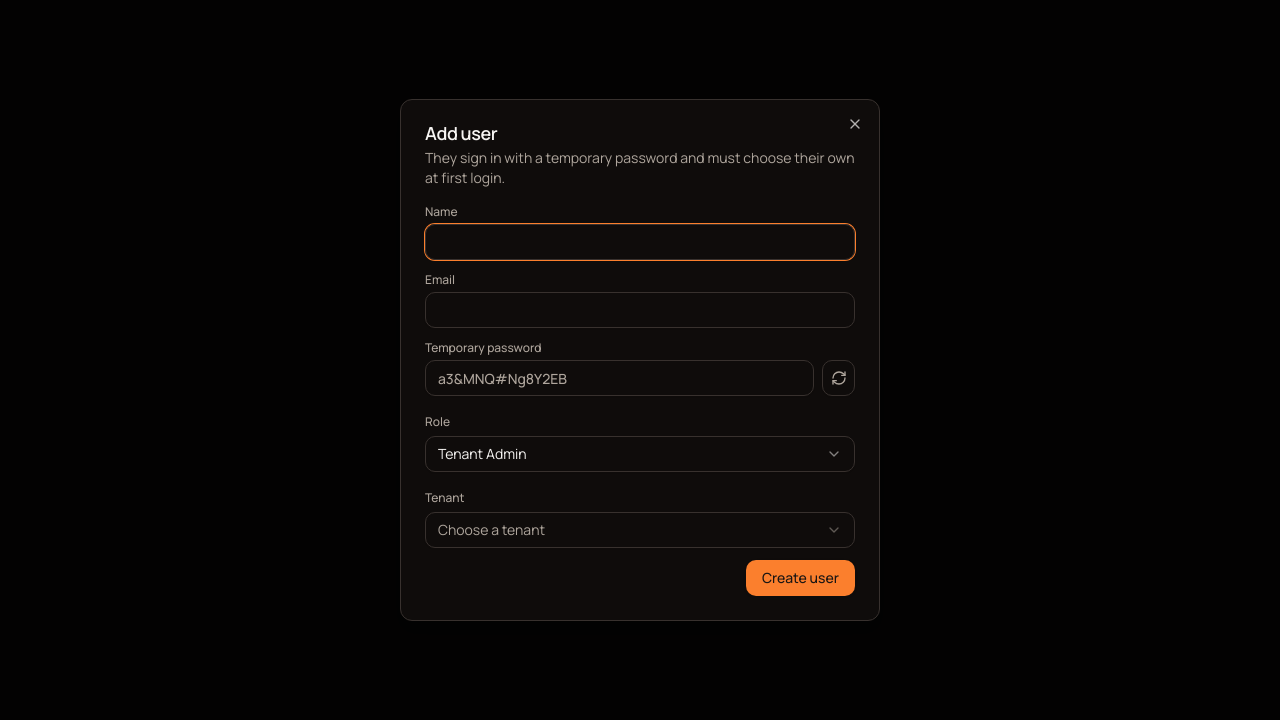
Test: Add User dialog › super admin: only Tenant Admin, and a tenant picker is required
Click the dropdown with test id "role-select" at (482, 454), box [425,436,855,472]
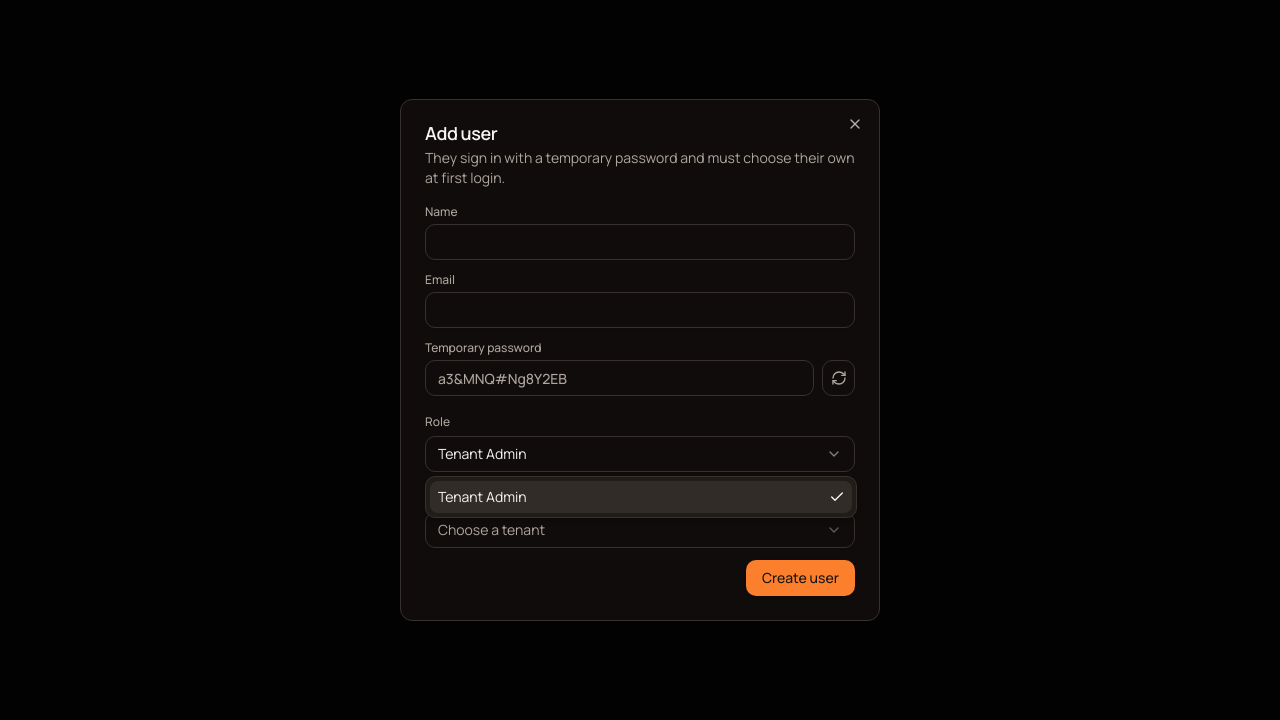
Press Escape
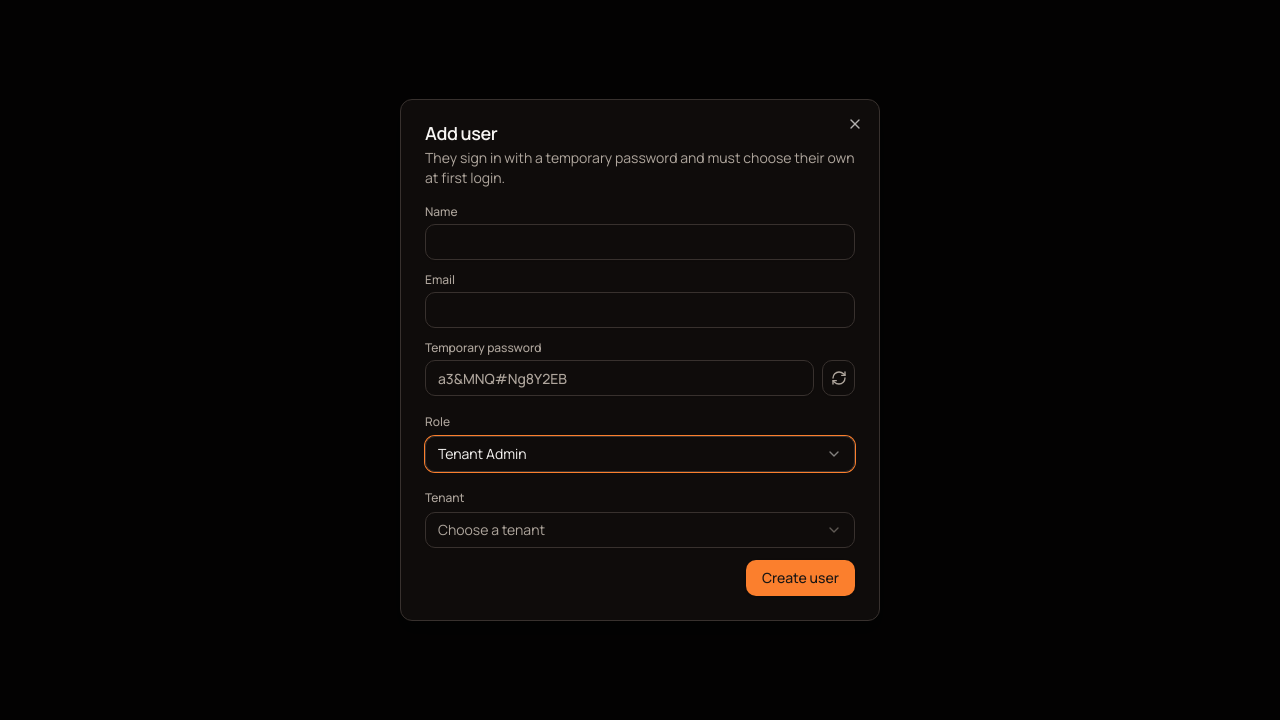
Expected: the dropdown with test id "tenant-select" is shown, [425,512,855,548]
Type "New Person" into the field labelled "Name" at (640, 242), box [425,224,855,260]
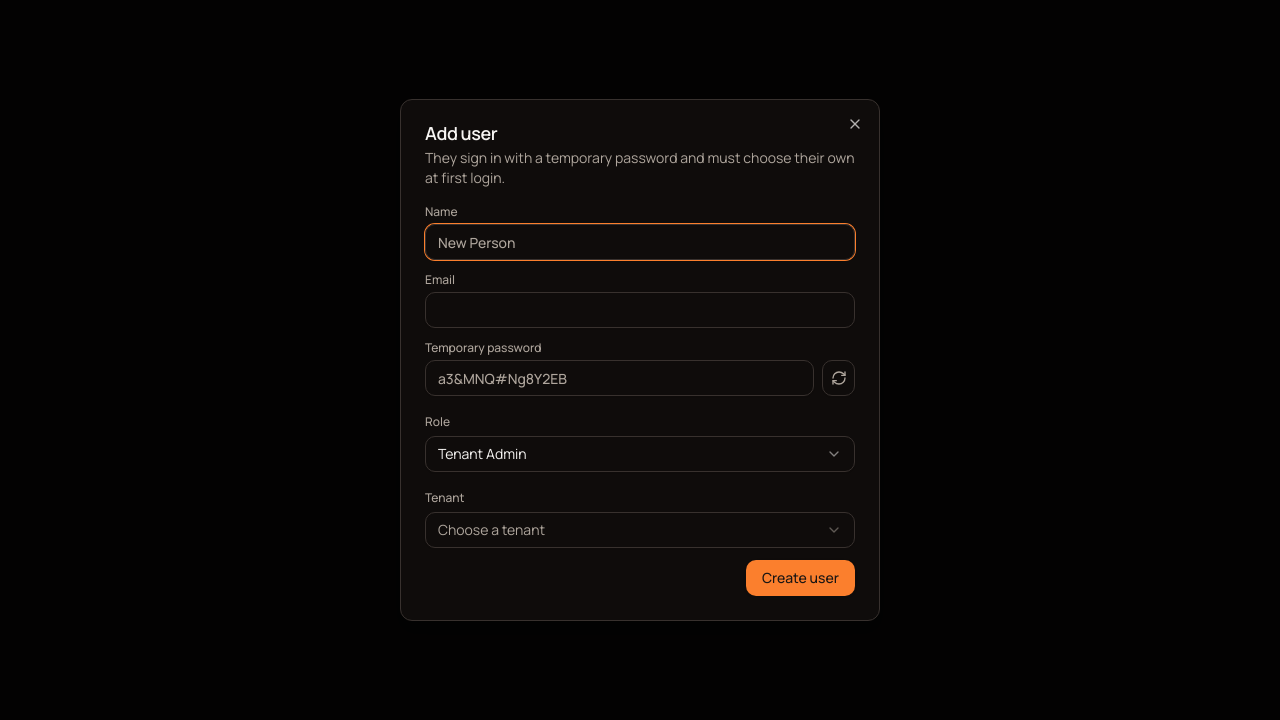
Type "new@x.co" into the field labelled "Email" at (640, 310), box [425,292,855,328]
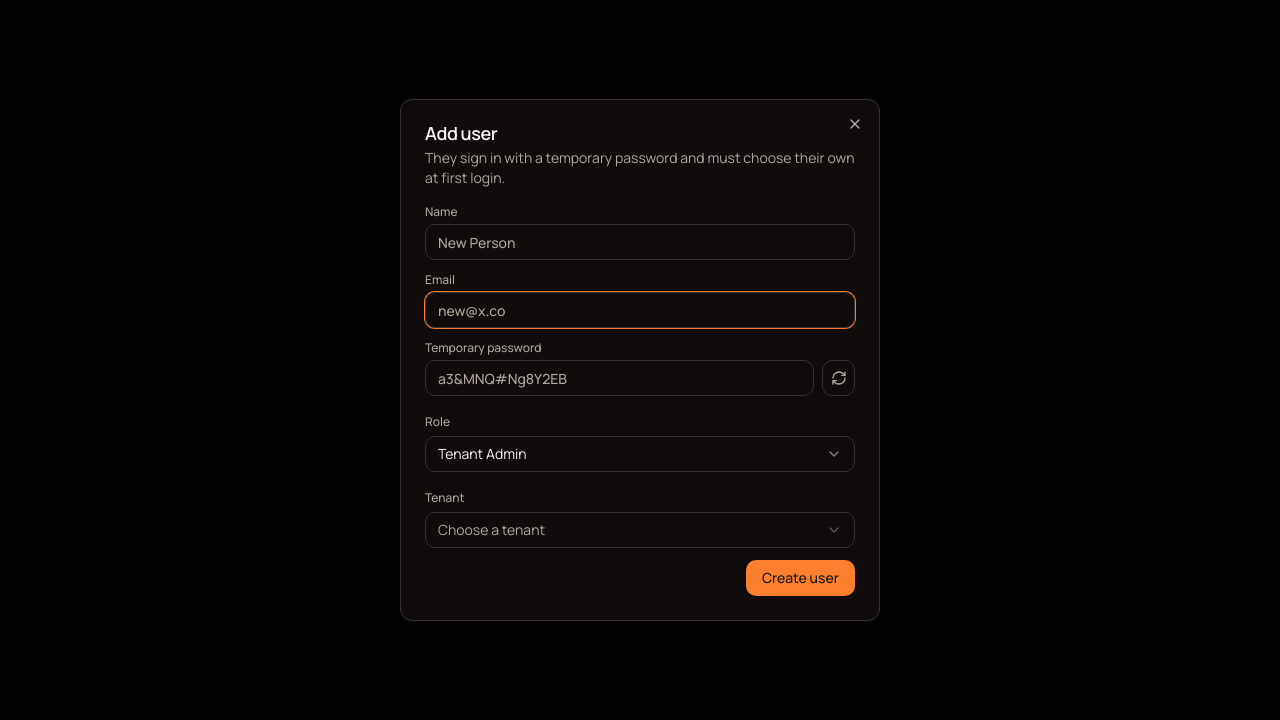
Click the button "Create user" at (800, 578), box [746,560,855,596]
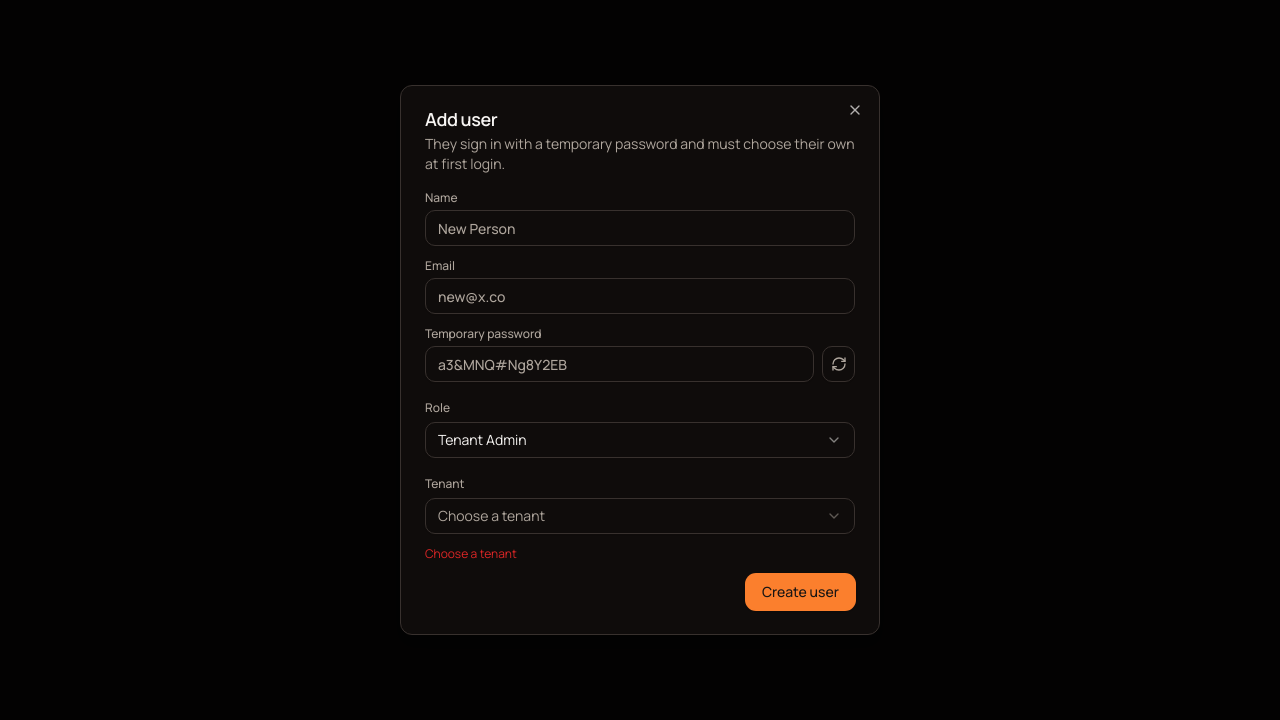
Result: the message reads "Choose a tenant" at [425,545,517,562]
